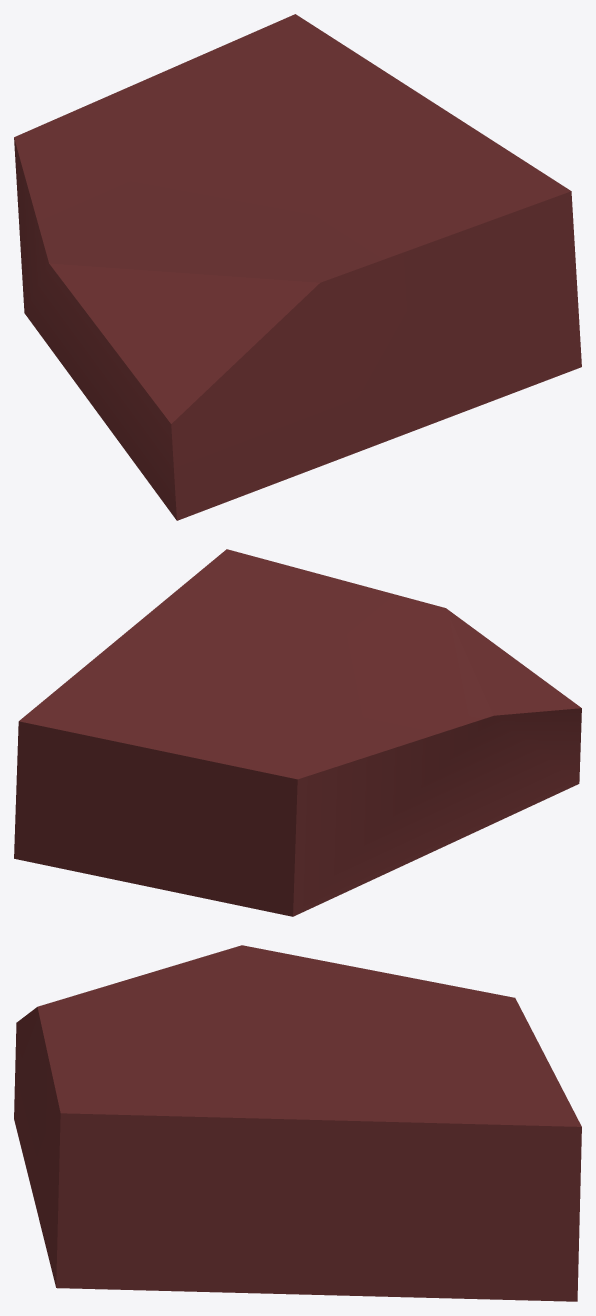
Rendered from mesh_piedra.fbx.
3 renders of one model, top to bottom at view 1: azimuth 30°, elevation 25°; view 2: azimuth 150°, elevation 25°; view 3: azimuth 270°, elevation 25°, orthographic. The views are drawn at different scales.
Visible parts, largest first — view 1: mesh_piedra; view 2: mesh_piedra; view 3: mesh_piedra.
Boxes of the visible parts, box(x1,y1,x2,y2) form: mesh_piedra: box(14, 14, 581, 520); mesh_piedra: box(14, 549, 581, 916); mesh_piedra: box(14, 945, 581, 1301).
Bounding box in the file's own units: 986 × 463 × 1144.
